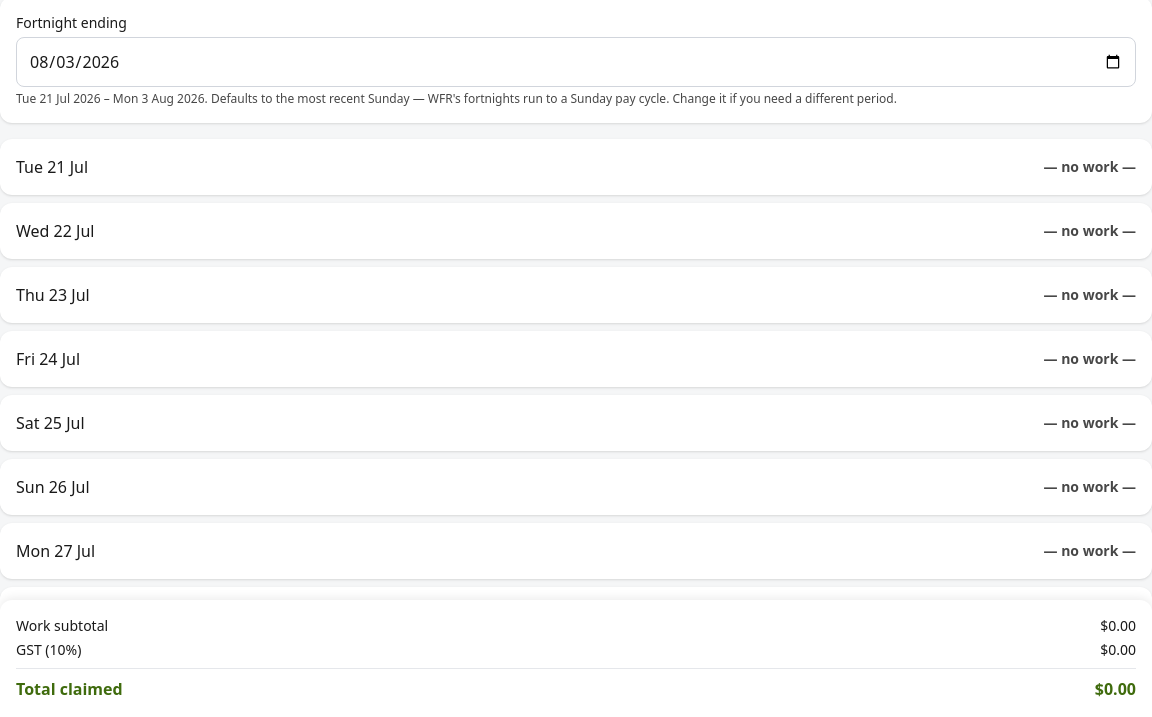
Scenario: FortnightlyForm incomplete adjusted-shift gating › disables Review while an adjusted shift is missing its hours
Step 1. Click the text "Tue 21 Jul" → (52, 167), box x1=16 y1=155 x2=88 y2=179
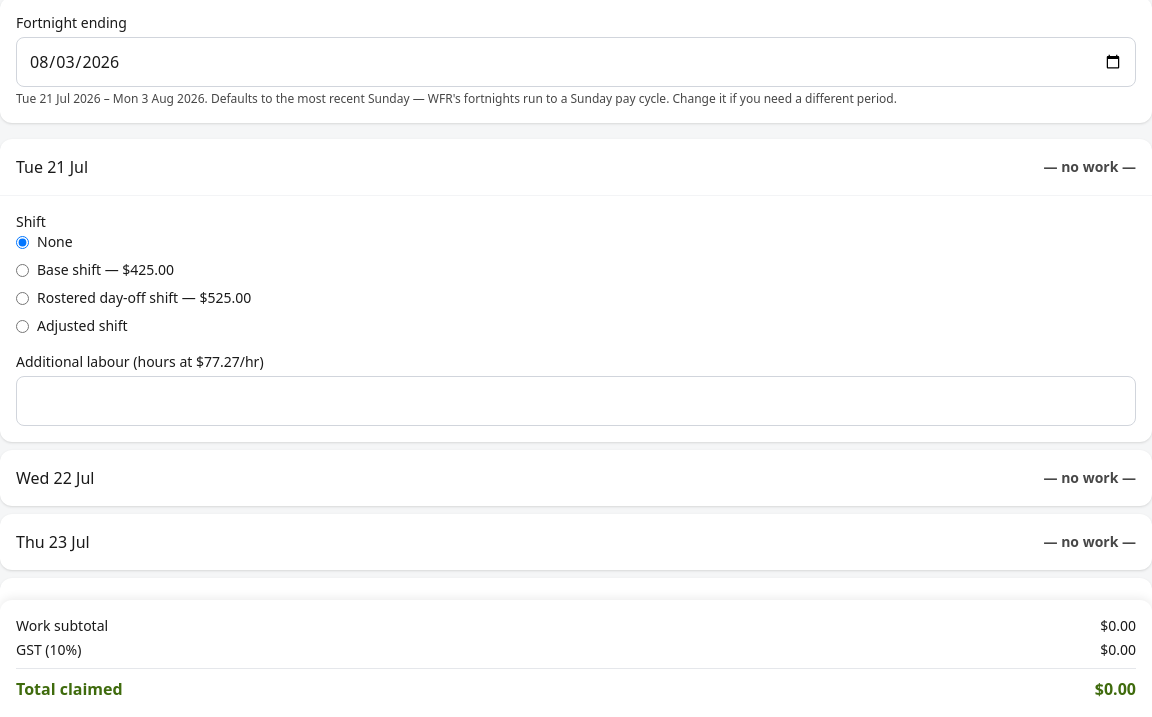
Step 2. Click the radio button labelled "Base shift" → (22, 270), box x1=16 y1=264 x2=29 y2=276
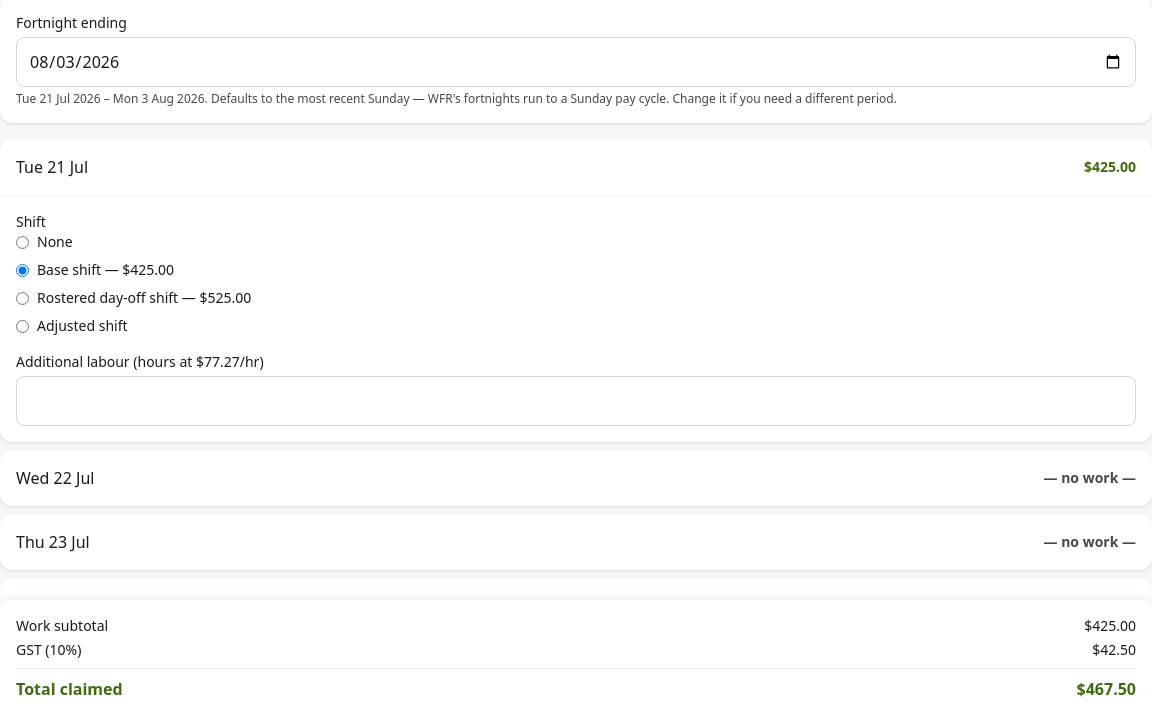
Step 3. Click the text "Tue 21 Jul" → (52, 167), box x1=16 y1=155 x2=88 y2=179
(page scrolled)
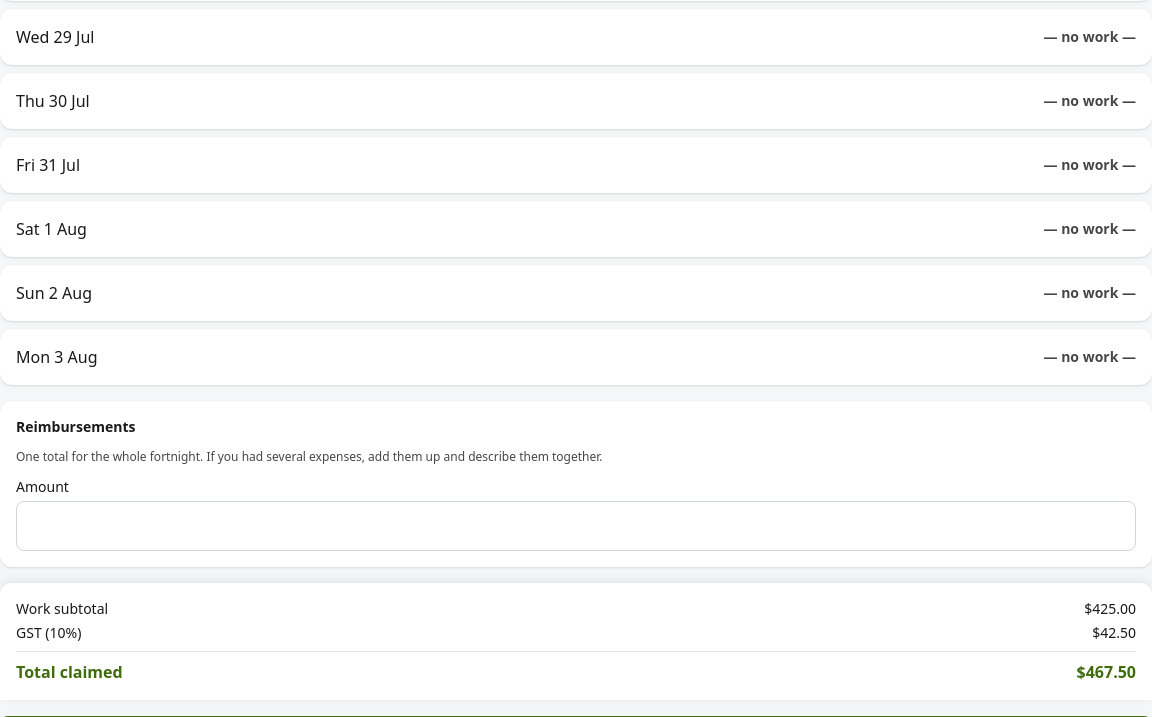
Step 4. Click the text "Mon 3 Aug" → (57, 357), box x1=16 y1=345 x2=98 y2=369
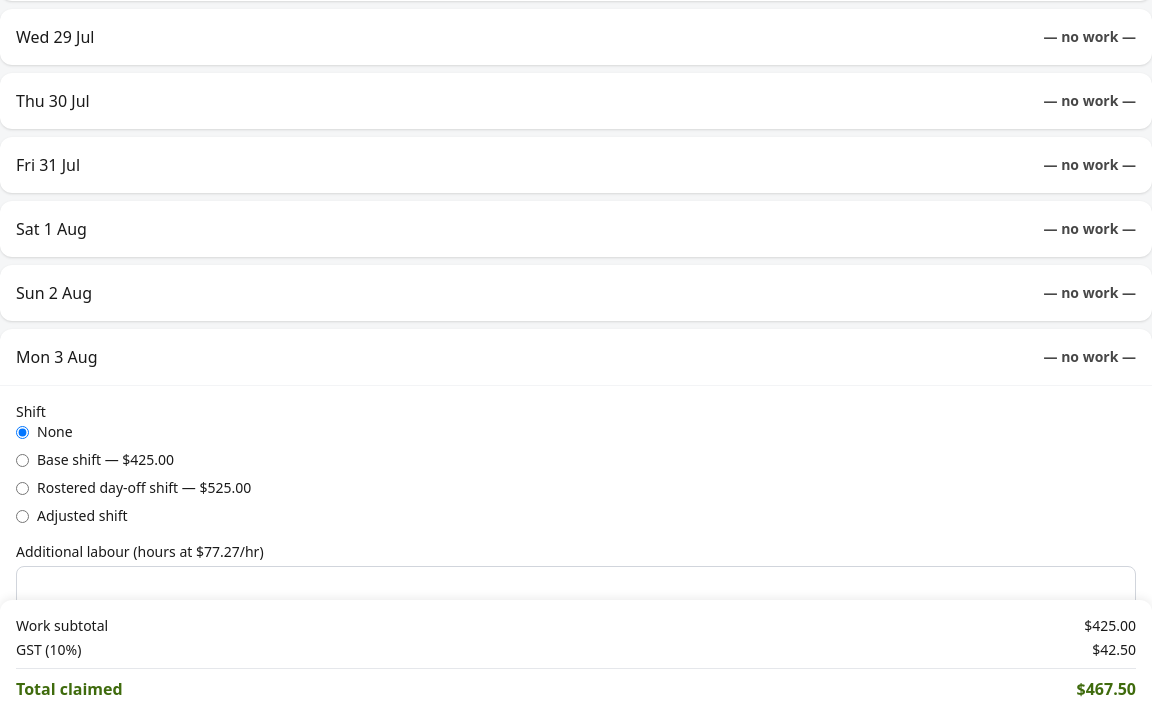
Step 5. Click the radio button labelled "Adjusted shift" → (22, 516), box x1=16 y1=510 x2=29 y2=522
(page scrolled)
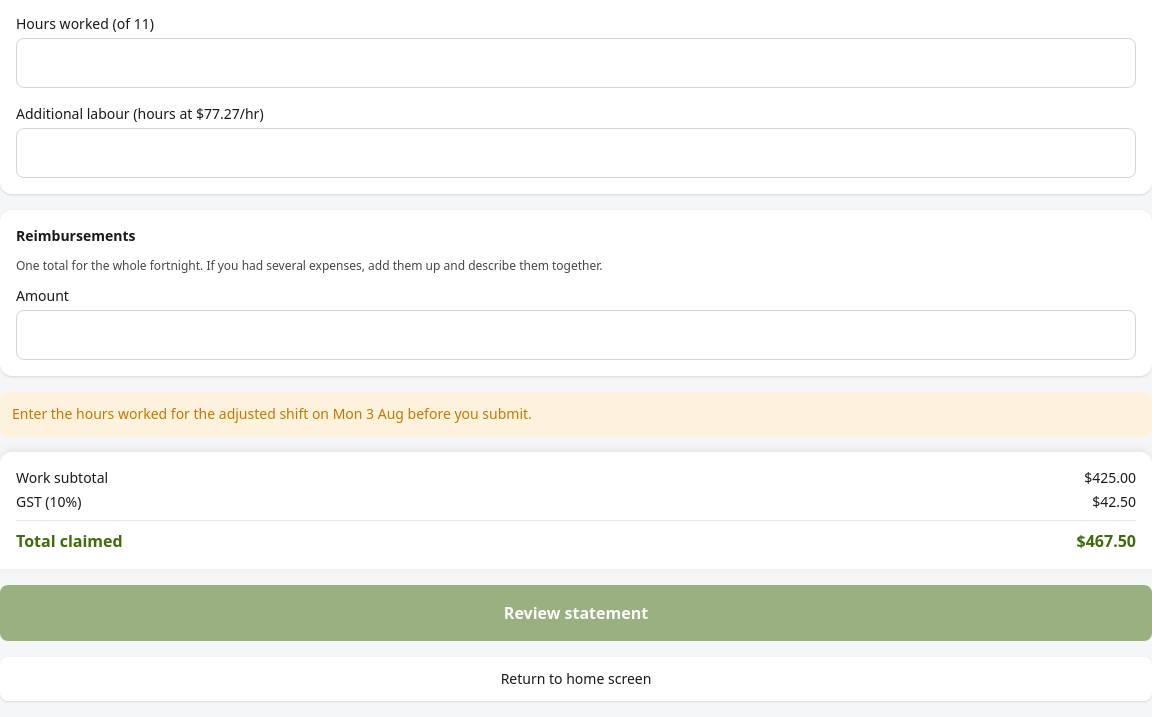
Check: the button "Review statement" is disabled, box x1=0 y1=585 x2=1151 y2=641
